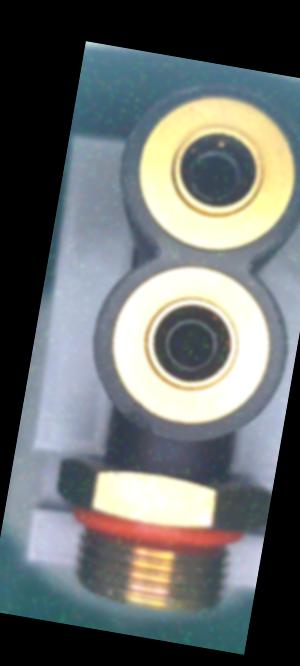bump: (116, 400, 159, 436)
